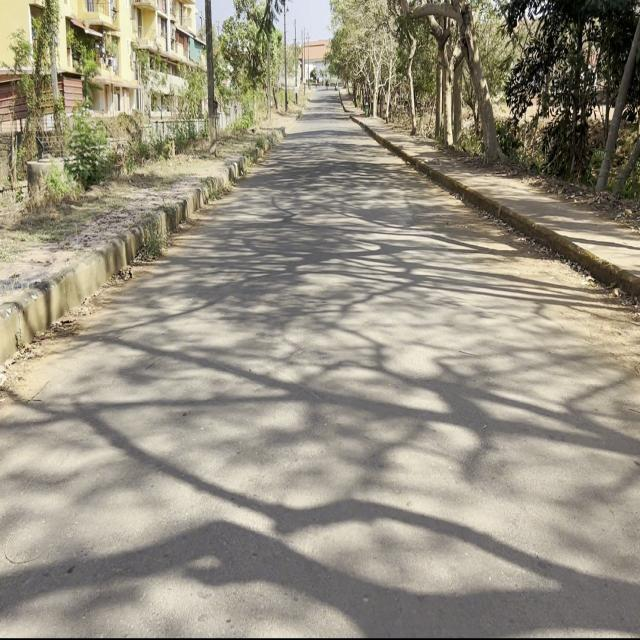Road: (3, 86, 635, 631)
